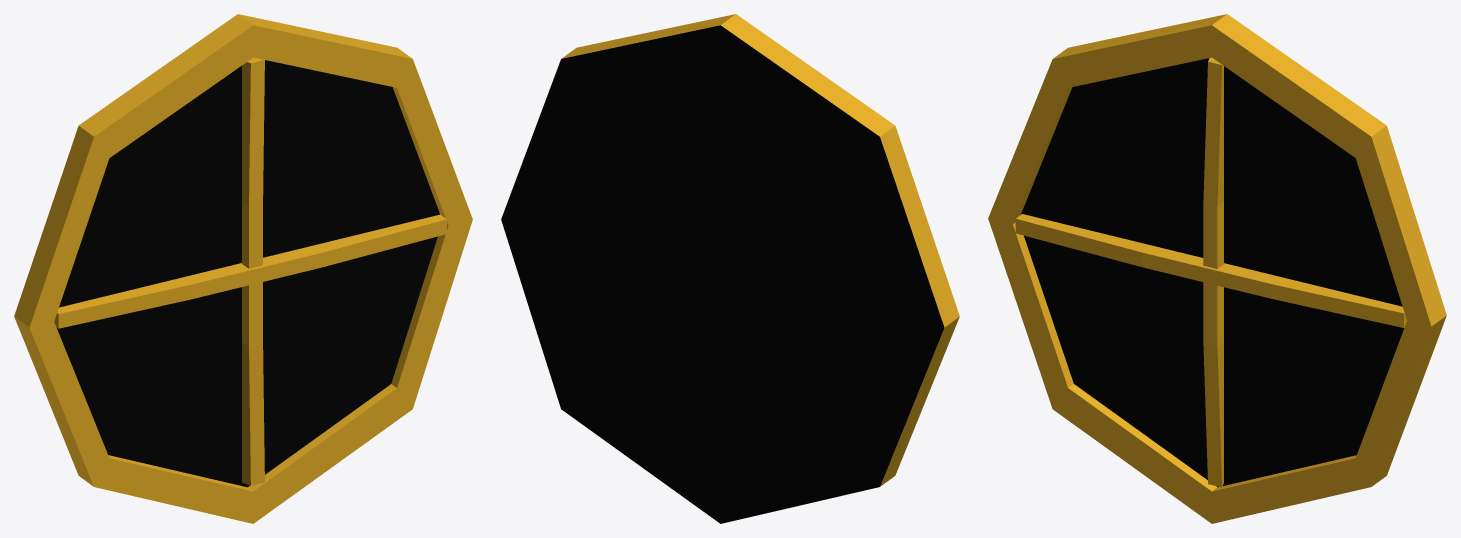
The model's file is Window.fbx.
3 renders of one model, left to right at view 1: azimuth 30°, elevation 25°; view 2: azimuth 150°, elevation 25°; view 3: azimuth 330°, elevation 25°, orthographic.
Parts seen in each view (by area): view 1: Window; view 2: Window; view 3: Window.
Boxes of the visible parts, x1,y1,x2,y2 form: Window: [14, 14, 472, 523]; Window: [501, 14, 959, 523]; Window: [988, 14, 1446, 523].
Bounding box in the file's own units: 665 × 714 × 50.08.
